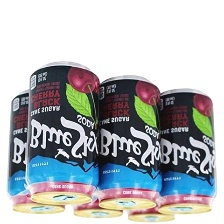can: (23, 61, 100, 207), (95, 79, 164, 211), (5, 89, 68, 217), (156, 87, 216, 215), (71, 199, 125, 218), (126, 208, 179, 224)
